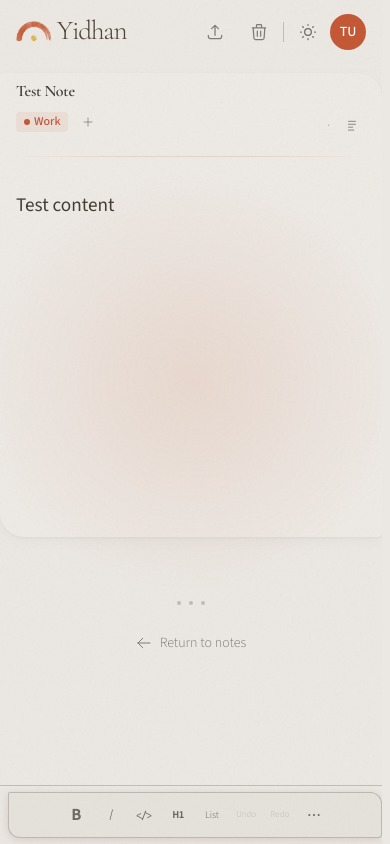
Test: Editor › auto-save › keeps failed drafts open on logo and exposes Retry and Copy in focus mode
Replace the text in the text box showing "Test Note" with "Keep these words" at (191, 91), box x1=16 y1=81 x2=366 y2=101
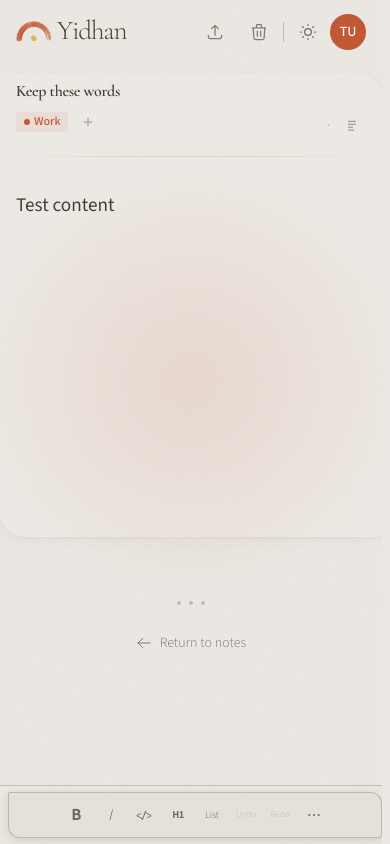
Click the button "Yidhan" at (71, 32), box x1=16 y1=18 x2=126 y2=46
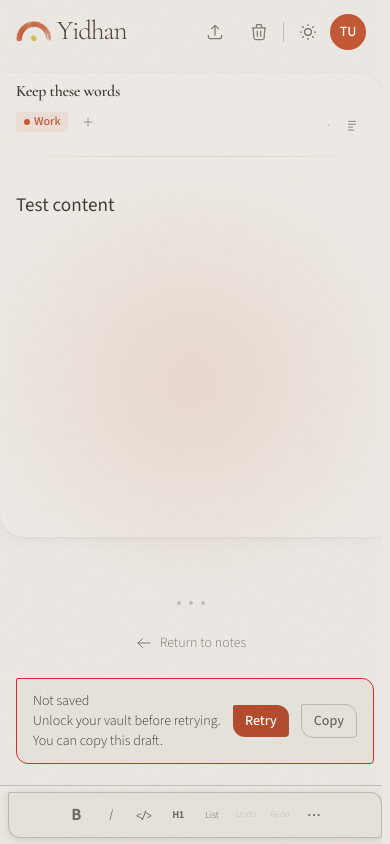
Press F
Wait 6000 ms
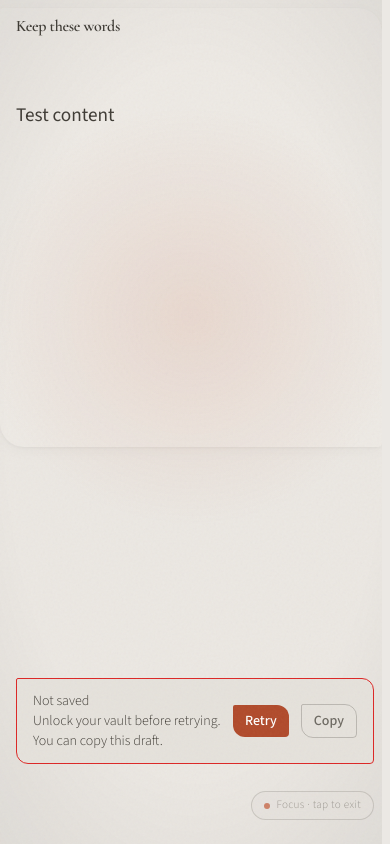
Expected: the message shows "Not saved", x1=33 y1=691 x2=89 y2=711
Expected: the message shows "Unlock your vault before retrying", x1=33 y1=711 x2=221 y2=751
Click the button "Retry" at (261, 721), box x1=233 y1=705 x2=289 y2=737
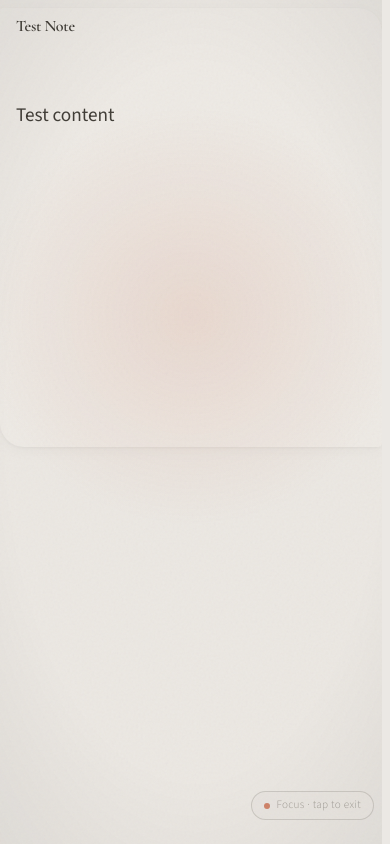
Expected: the message is gone
